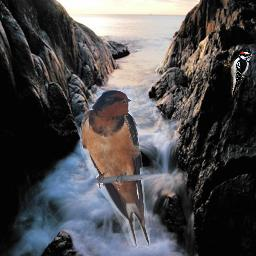Swallow: (80, 89, 150, 248)
Woodpecker: (224, 51, 255, 97)
